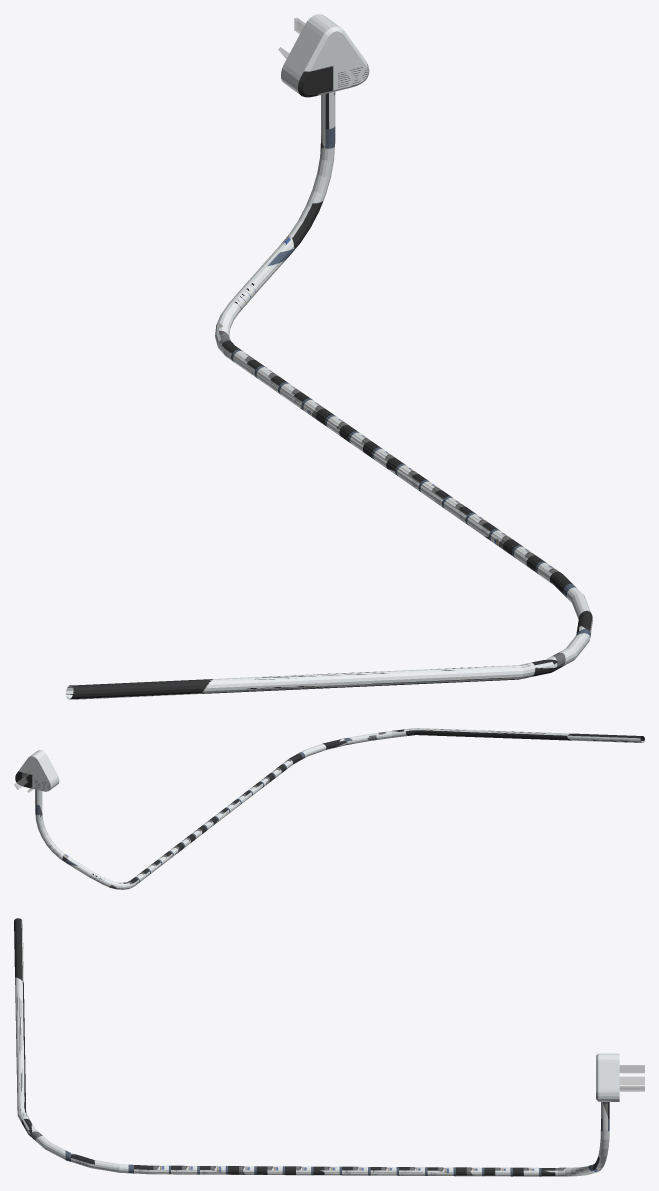
The model's file is SM_电源插头2.FBX.
3 renders of one model, top to bottom at view 1: azimuth 30°, elevation 25°; view 2: azimuth 150°, elevation 25°; view 3: azimuth 270°, elevation 25°, orthographic. The views are drawn at different scales.
Visible parts, largest first — view 1: SM_电源插头; view 2: SM_电源插头; view 3: SM_电源插头.
Boxes of the visible parts, x1,y1,x2,y2 form: SM_电源插头: [65, 14, 593, 699]; SM_电源插头: [14, 728, 644, 889]; SM_电源插头: [14, 918, 644, 1176].
Size of the model in its own units: 0.3703 by 0.4246 by 0.1226.
